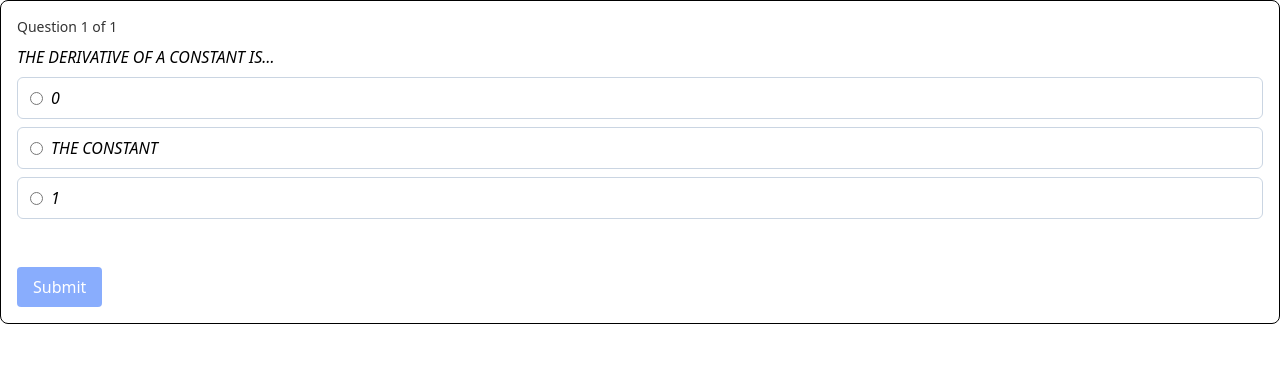
Test: QuizEngine flow (FR-QUIZ-001) › uses renderMarkdown for question text and explanations when provided
Expected: the text "THE DERIVATIVE OF A CONSTANT IS…" is shown, [17,46,275,68]
Click the radio button labelled "0" at (36, 98), box [30,92,43,104]
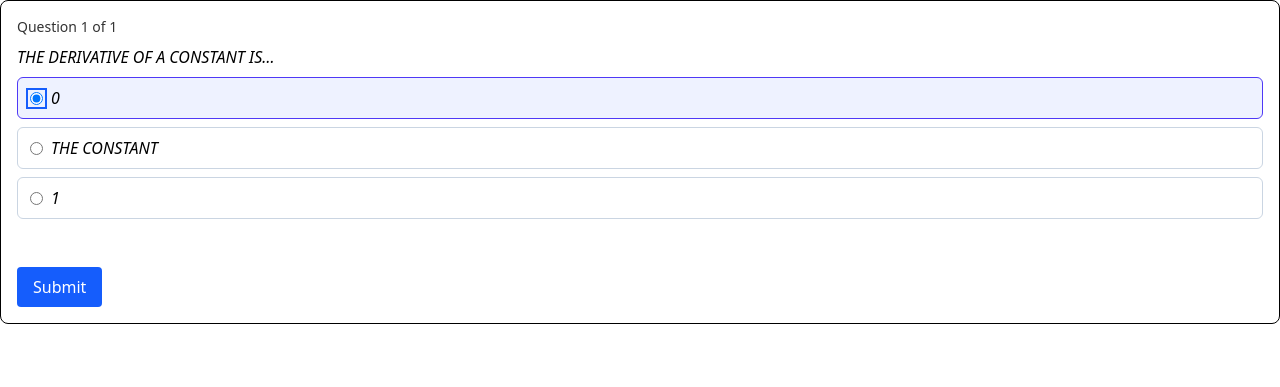
Click the button "Submit" at (60, 287), box [17,267,102,307]
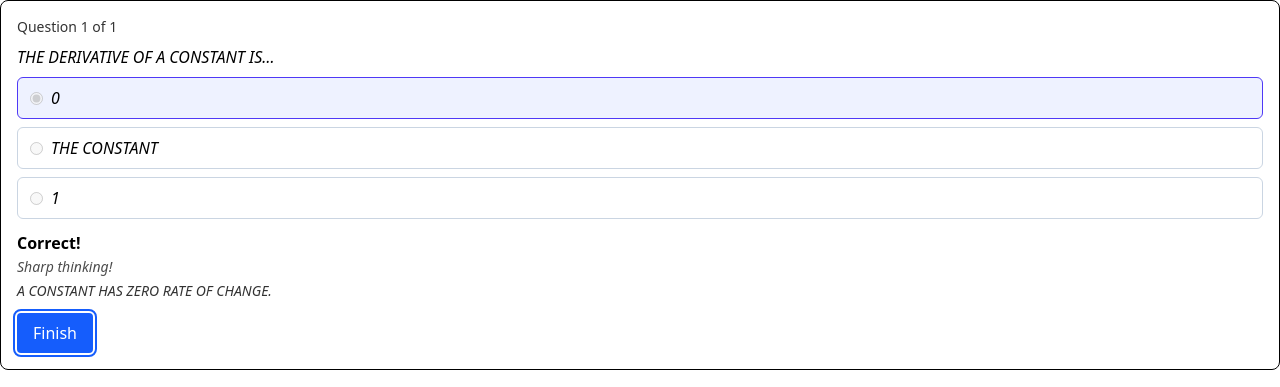
Result: the text "A CONSTANT HAS ZERO RATE OF CHANGE." is shown at [17,281,272,300]
